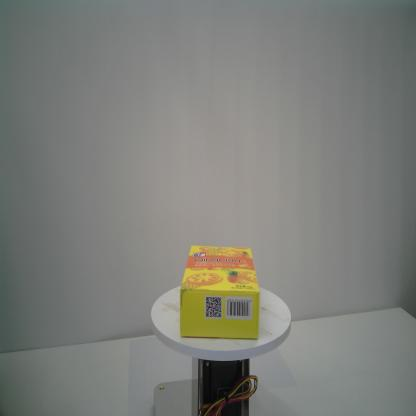Dessert: (180, 245, 260, 340)
